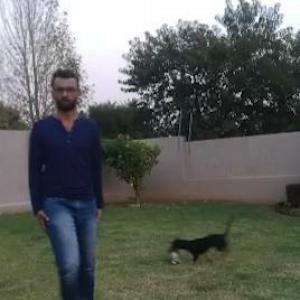follow: (29, 66, 108, 299)
